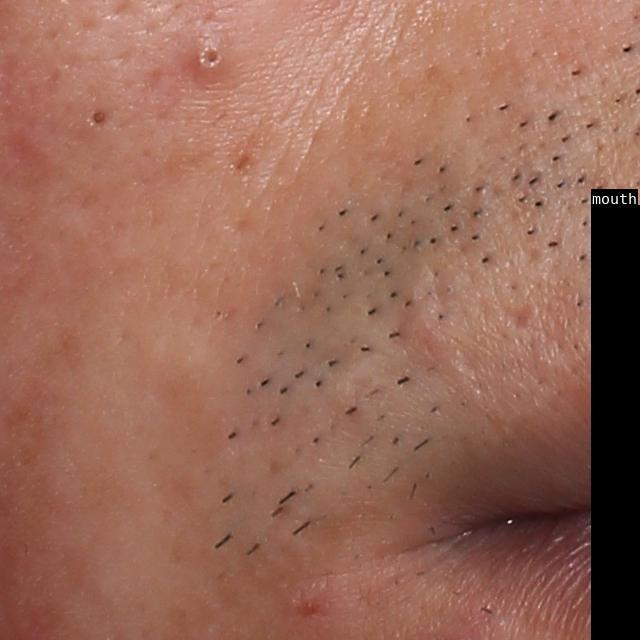atrophic_scar: (497, 297, 537, 334)
comedo: (84, 104, 115, 132)
papule: (283, 587, 340, 632), (191, 36, 236, 84)
